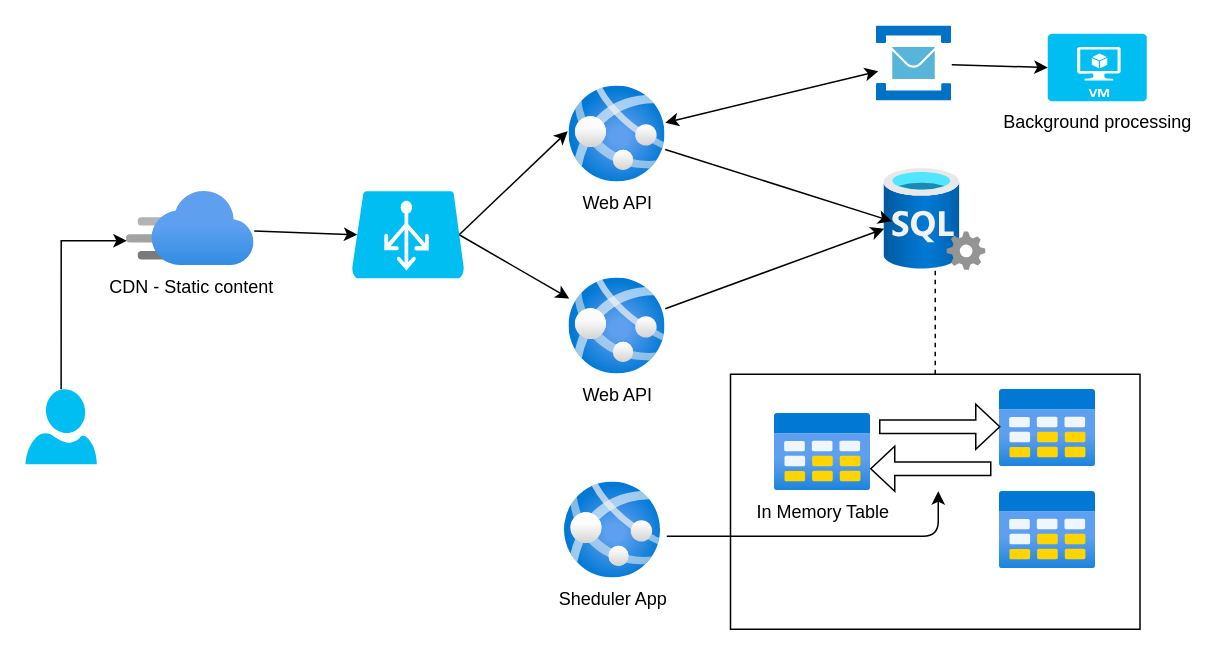
This 1217x656 diagram has some shape labels left out. The centre of each missing label's shape, as x and y in pixels:
"Load Balancer" goes at (x=407, y=234).
"Message queue" goes at (x=913, y=63).
"MS SQL" goes at (x=935, y=219).
